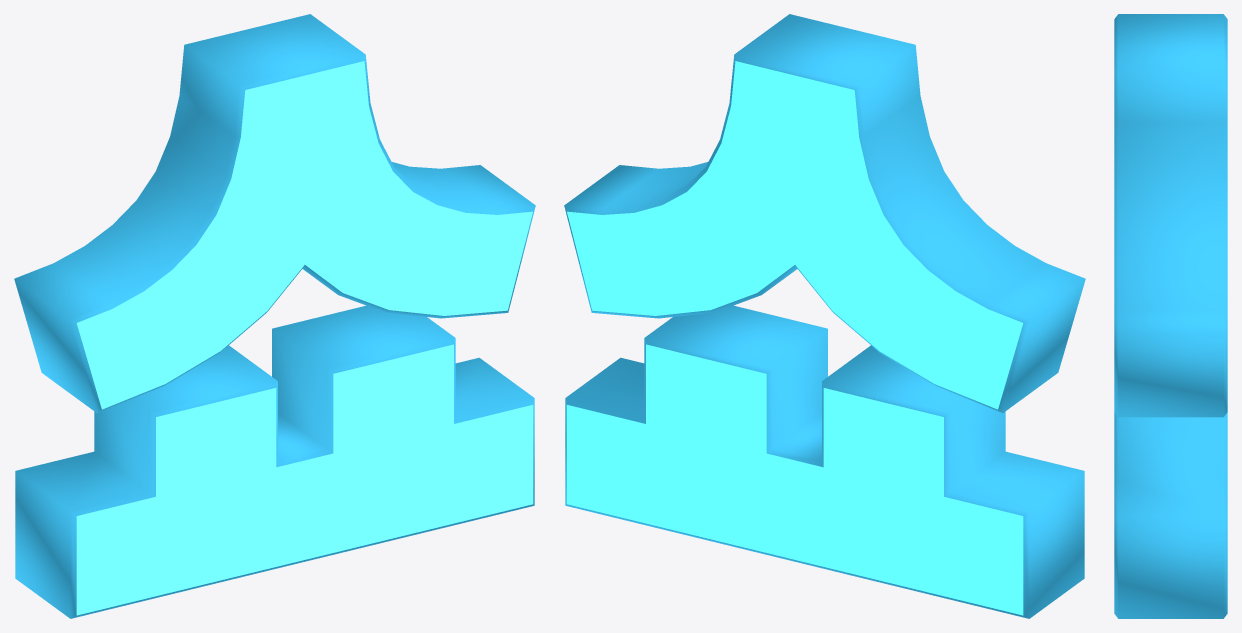
3 views of the same model, side by side, from view 1: azimuth 30°, elevation 25°; view 2: azimuth 150°, elevation 25°; view 3: azimuth 270°, elevation 25° (orthographic). The views are drawn at different scales.
Parts seen in each view (by area): view 1: glyph; view 2: glyph; view 3: glyph.
Part boxes in pixels (box(x1,y1,x2,y2)): glyph: box(14, 14, 535, 618); glyph: box(564, 14, 1085, 618); glyph: box(1114, 14, 1227, 618).
Size of the model in its own units: 0.073 by 0.0736 by 0.0162.
